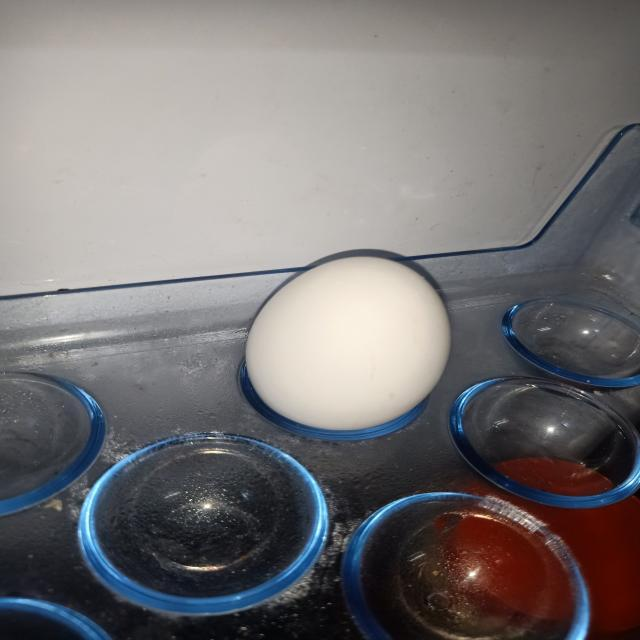Egg: (236, 237, 474, 453)
